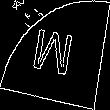M_S: (30, 25, 80, 85)
